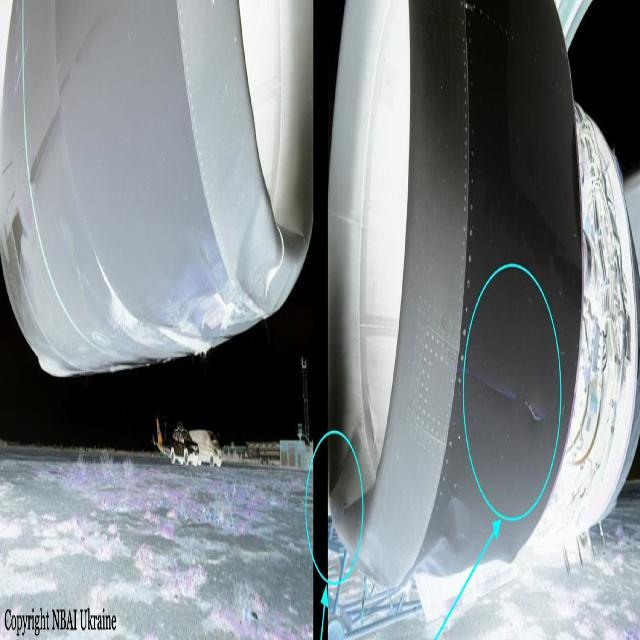crack: (522, 391, 546, 437)
dent: (439, 493, 473, 566)
